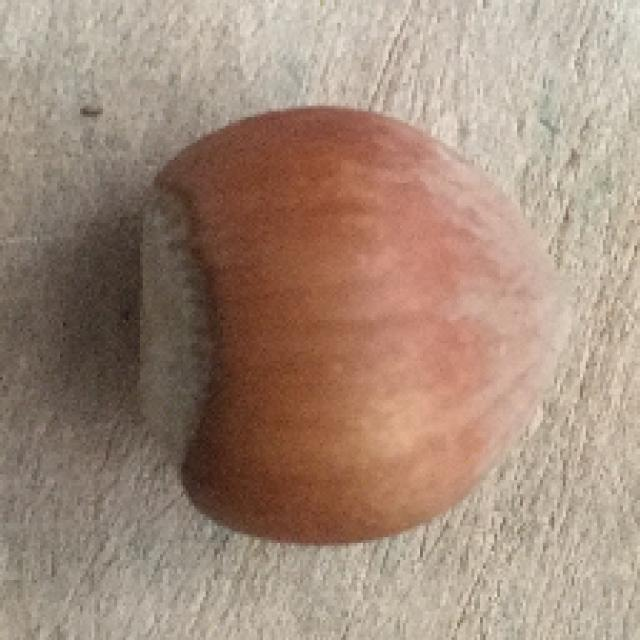qualityHazelnut: (121, 97, 572, 542)
